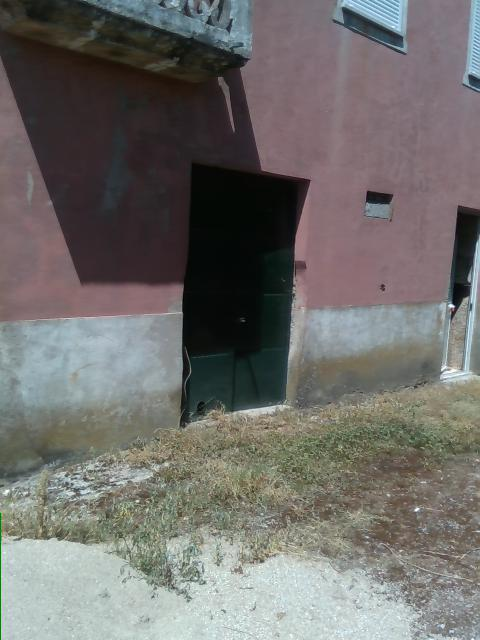closed_door: (178, 150, 312, 428)
